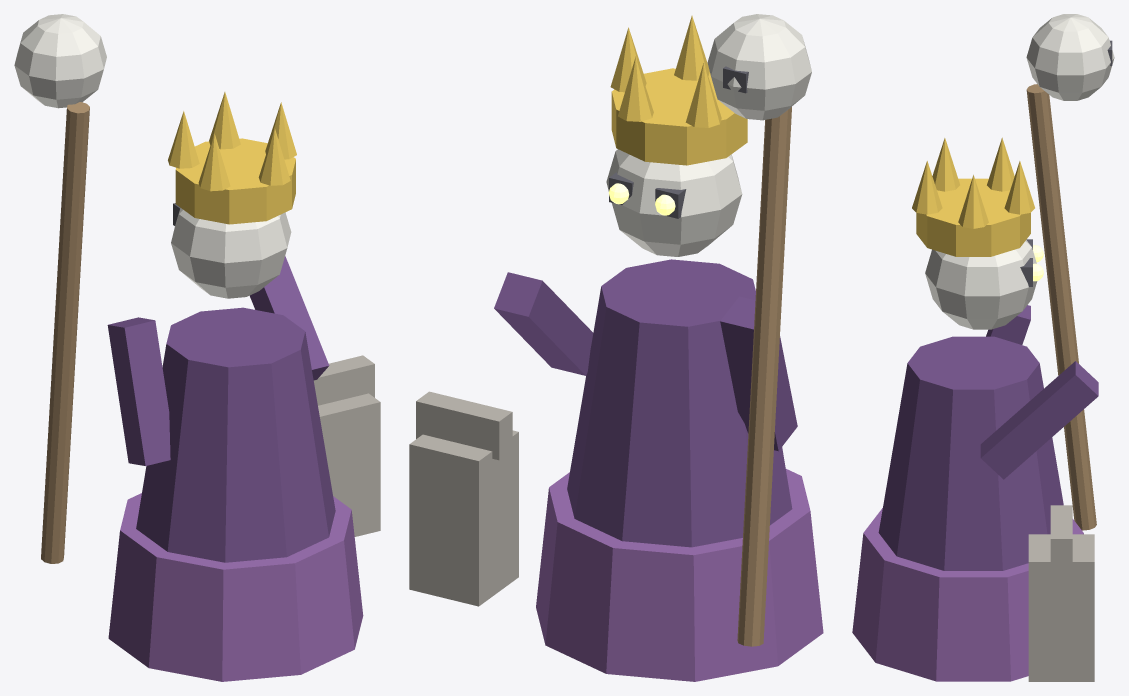
File: tomb_queen.glb
3 renders of one model, left to right at view 1: azimuth 30°, elevation 25°; view 2: azimuth 150°, elevation 25°; view 3: azimuth 270°, elevation 25°, orthographic. The views are drawn at different scales.
Parts seen in each view (by area): view 1: tomb_queen; view 2: tomb_queen; view 3: tomb_queen.
Boxes of the visible parts, x1,y1,x2,y2 form: tomb_queen: (14, 14, 380, 681); tomb_queen: (409, 14, 823, 681); tomb_queen: (852, 14, 1114, 681).
Bounding box in the file's own units: 1.67 × 2.8 × 1.19.
